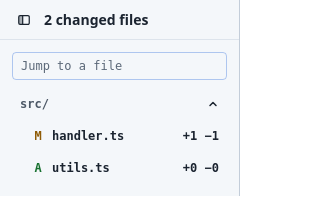
Test: finding a file in a long review › narrows the list to paths that match
The width and height of the screenshot is (320, 213).
Type "utils" into the search field with test id "file-filter" at x=120, y=66, box [12, 52, 227, 80]
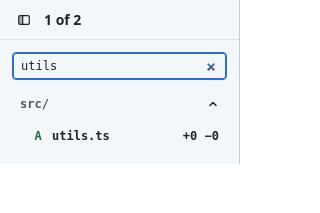
Expected: the button with test id "file-item" shows "utils.ts", [12, 120, 227, 152]
Result: the number of buttons with test id "file-item" is 1 at [12, 120, 227, 152]
